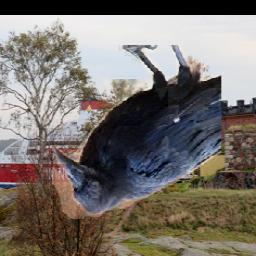Crow: (52, 45, 221, 219)
